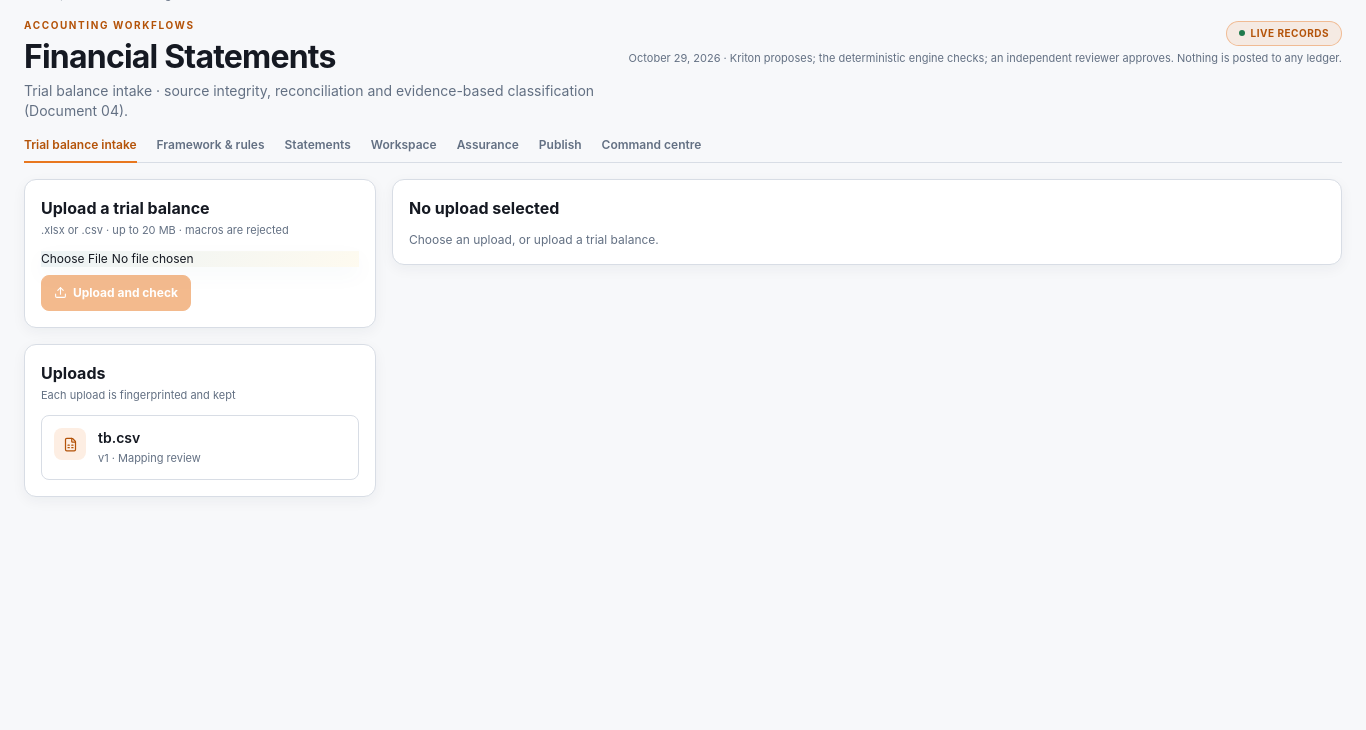
Financial Statements — trial balance intake › only proposes a balanced journal, and says it is not posted
Click the button "tb.csv v1 · Mapping review": (70, 444) [42,416,358,478]
(page scrolled)
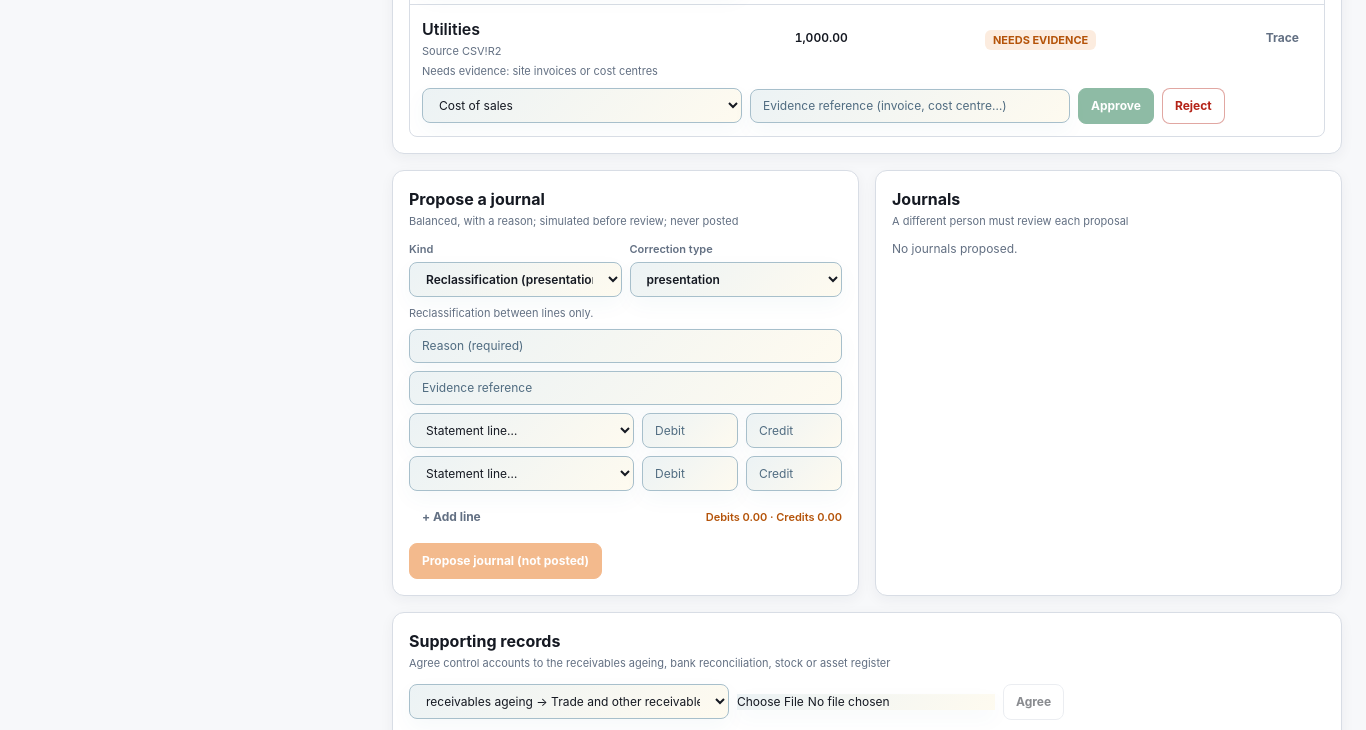
In the field labelled "Reason": (626, 346) [409,329,842,363], type "Factory utilities"
Select "Cost of sales" in the dropdown named "Line 1 statement line": (522, 431) [409,413,634,448]
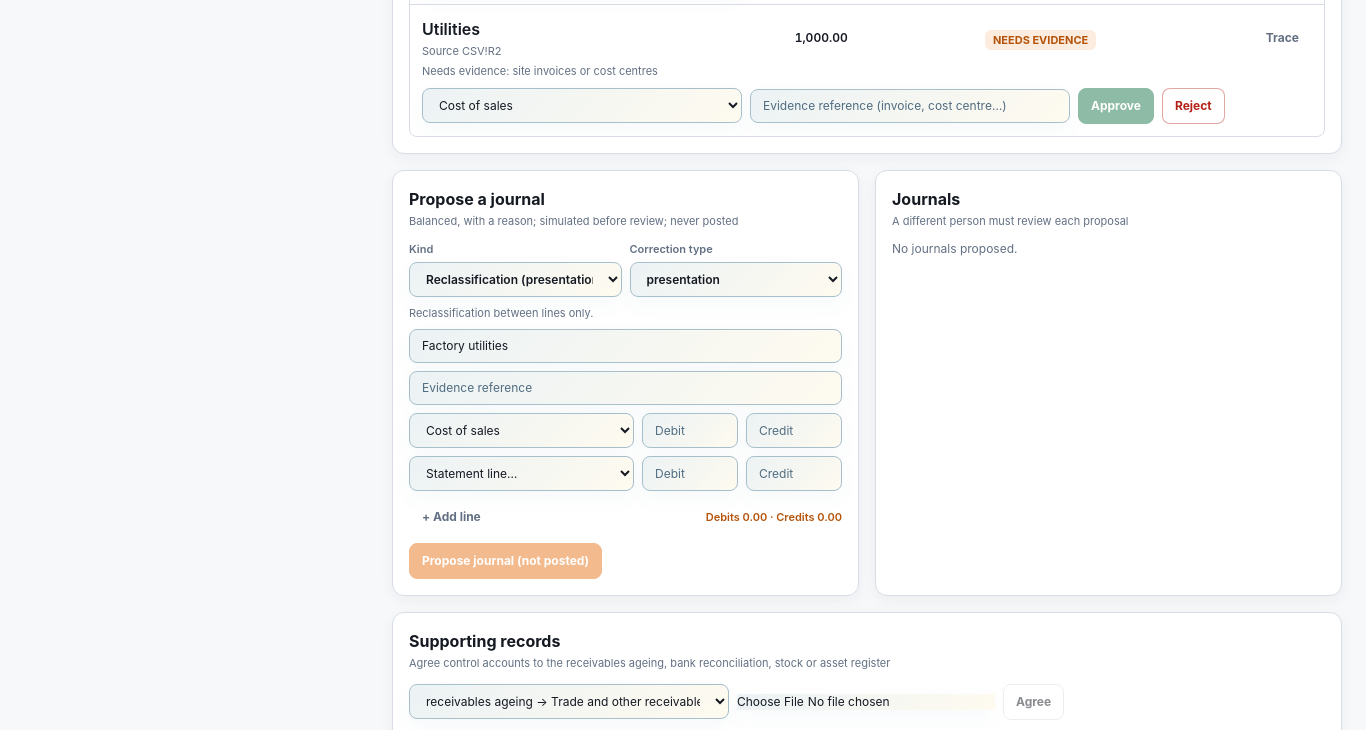
In the field named "Line 1 debit": (690, 431) [642,413,738,448], type "100"
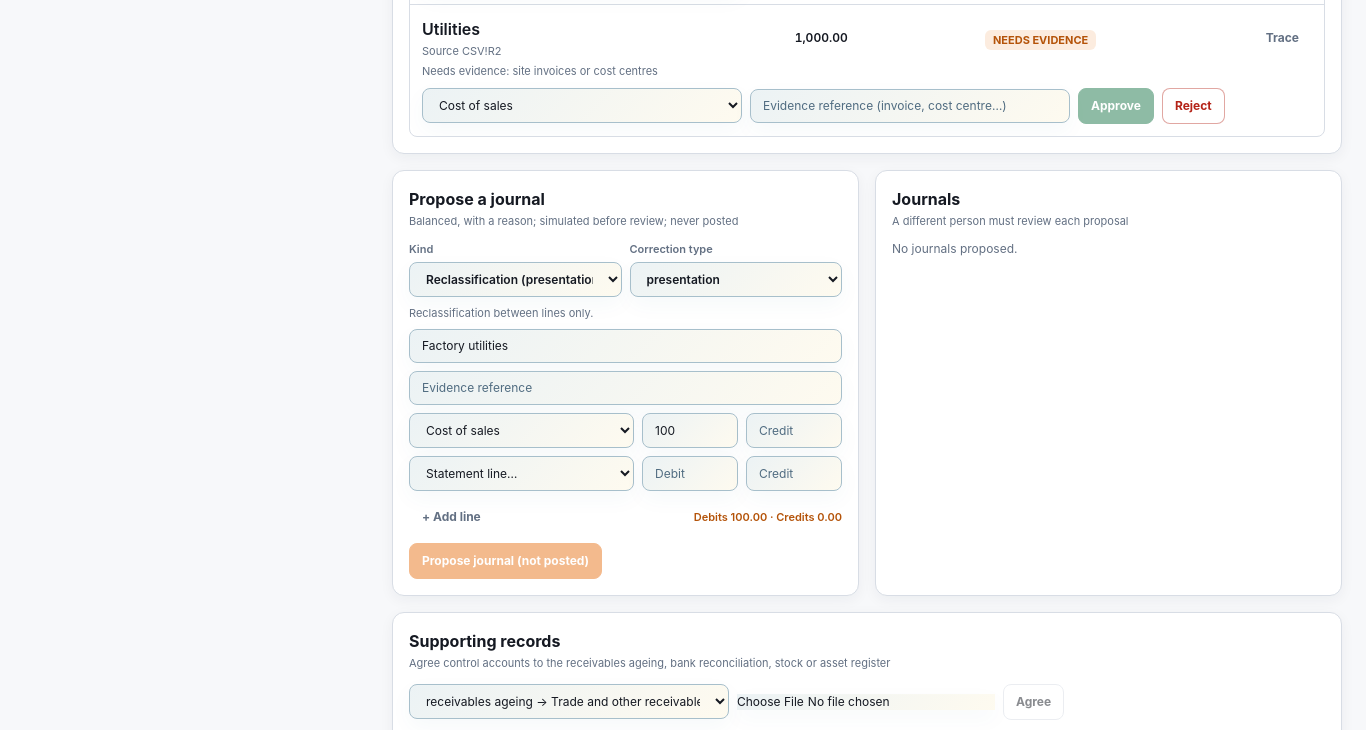
Select "Administrative expenses" in the dropdown named "Line 2 statement line": (522, 474) [409,456,634,491]
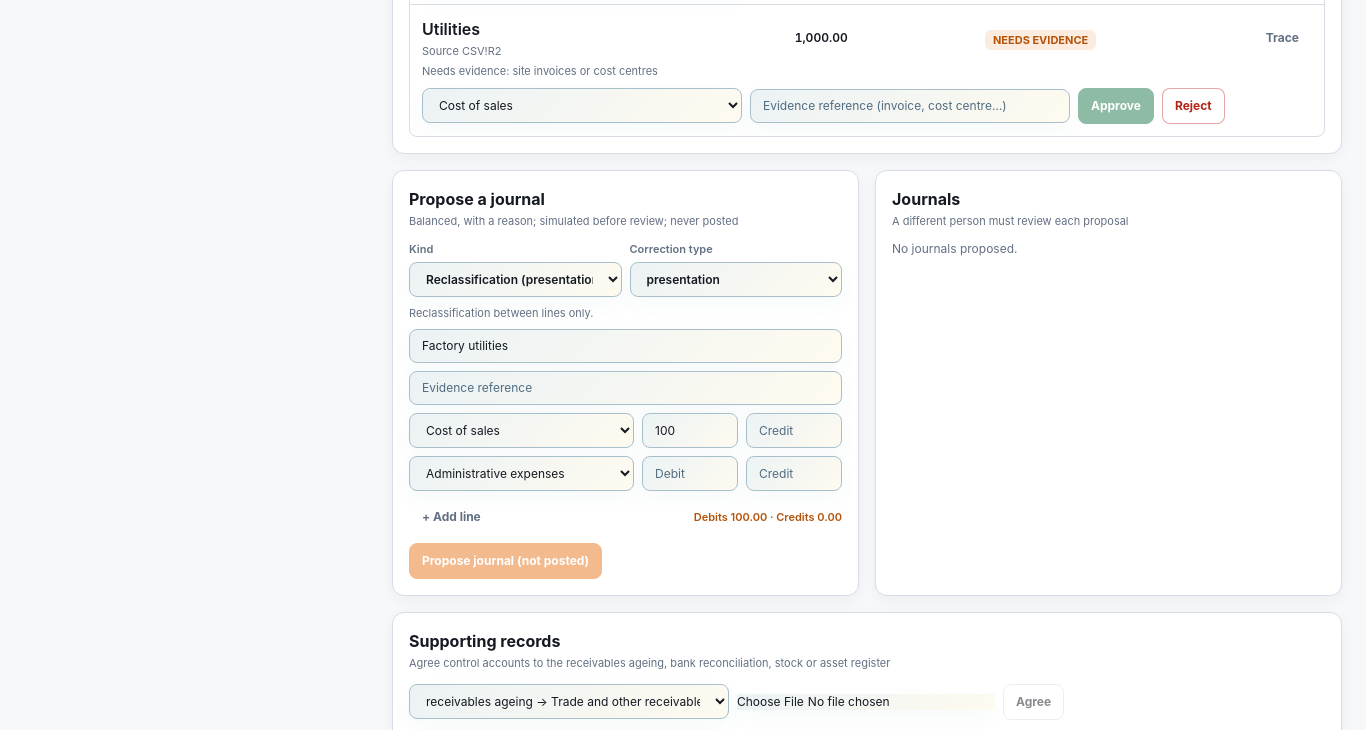
In the field named "Line 2 credit": (794, 474) [746,456,842,491], type "90"
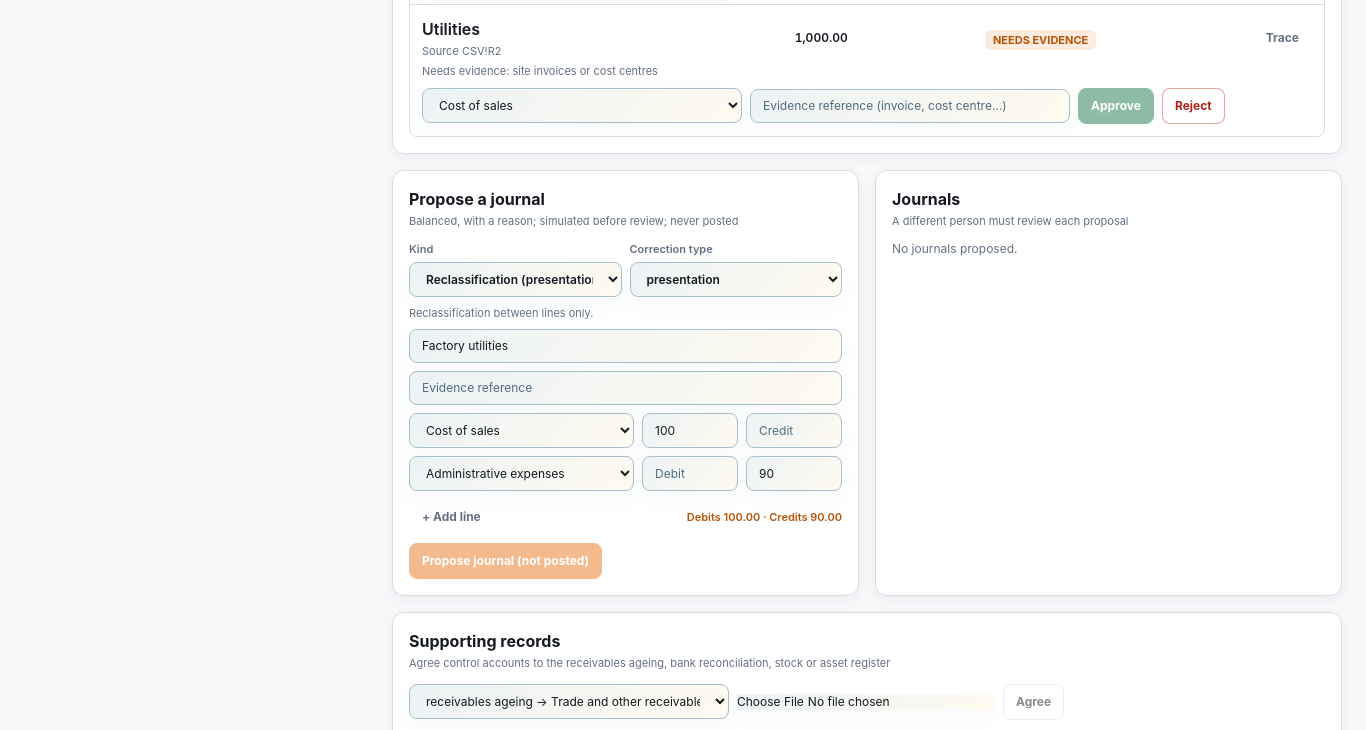
Expected: the button "Propose journal (not posted)" is disabled, [409,543,602,579]
Replace the text in the field named "Line 2 credit" with "100": (794, 474) [746,456,842,491]
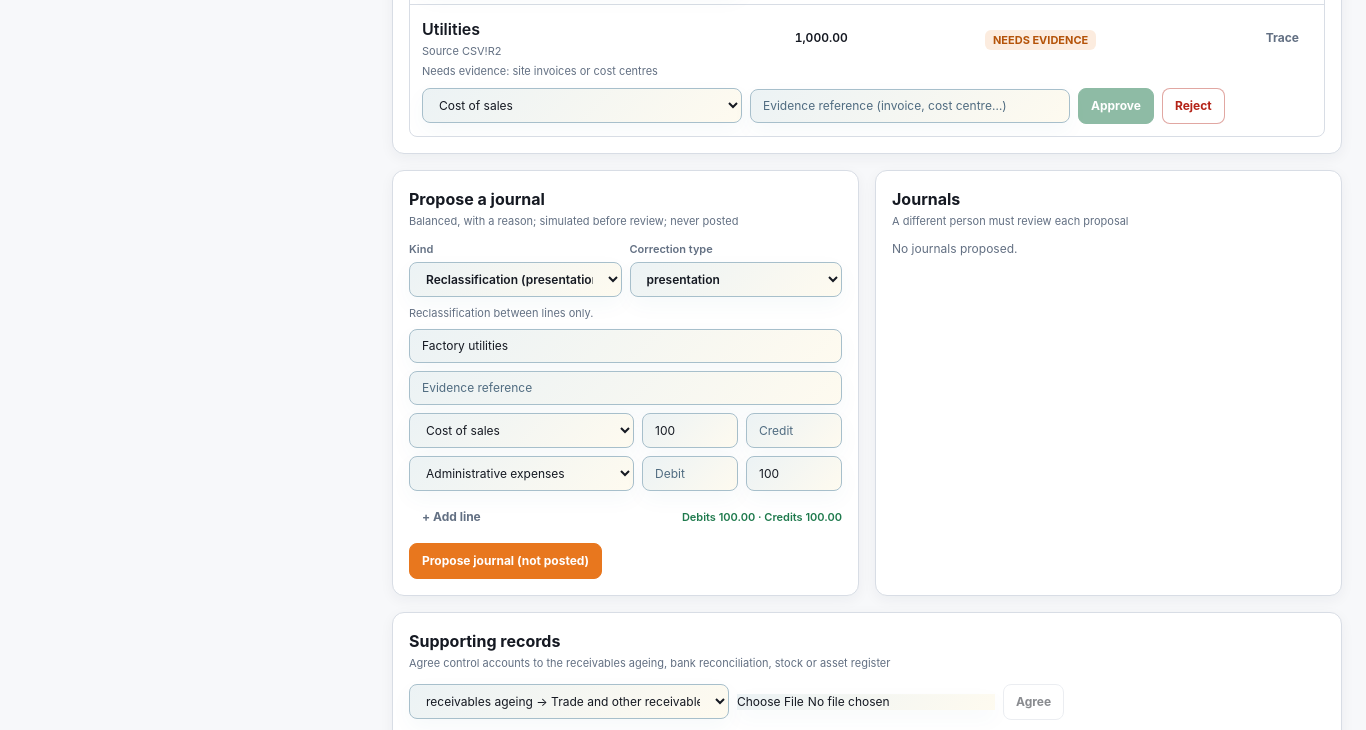
Expected: the button "Propose journal (not posted)" is enabled, [409,543,602,579]
